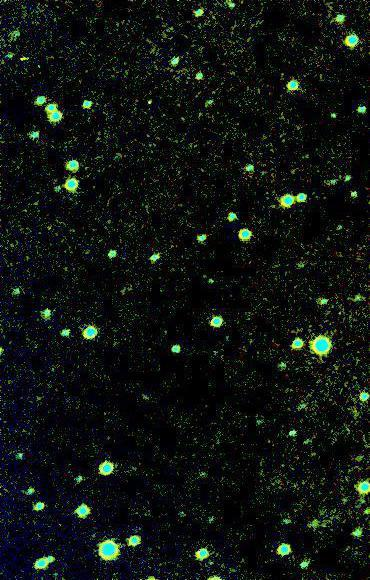star: (134, 86, 164, 116)
